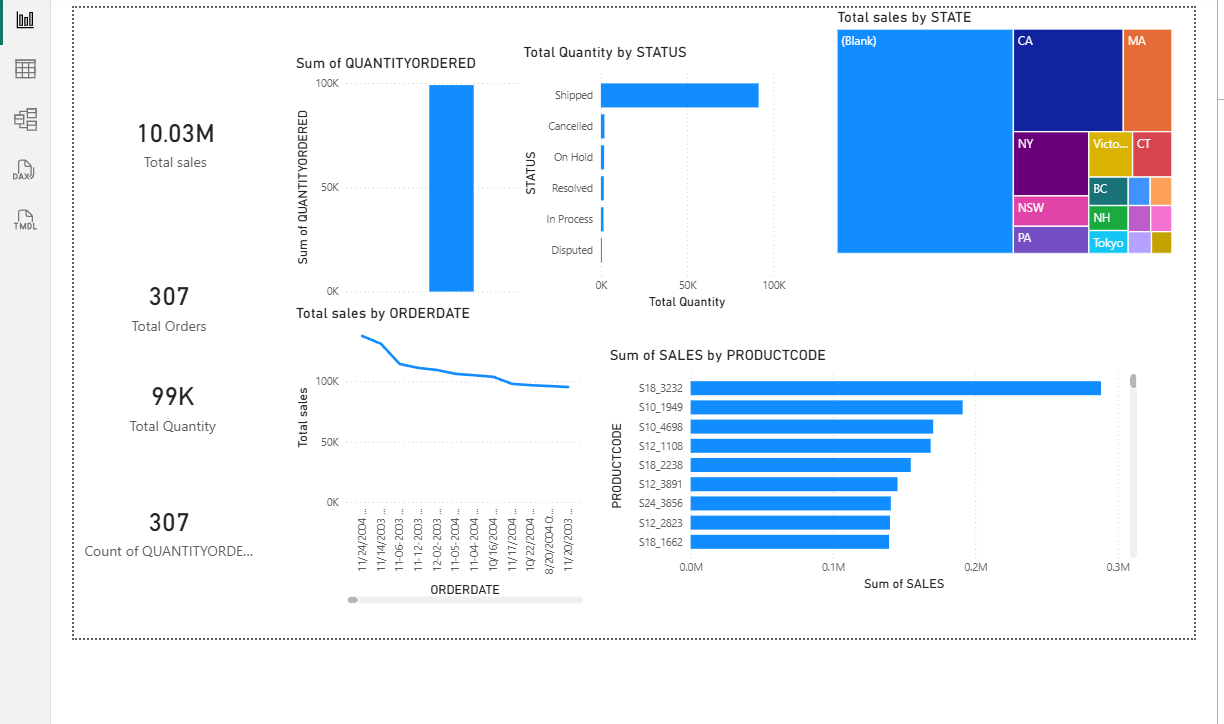

What the dashboard file says about the page in this screenshot:
{"tool":"powerbi","page":{"name":"Page 1","canvas":[1280,720],"ordinal":0},"visuals":[{"type":"card","fields":{"Values":["sales_data_sample.Total sales"]},"box":[15.1,16.5,200.3,269],"z":0},{"type":"card","fields":{"Values":["sales_data_sample.Total Orders"]},"box":[0,219.6,197.6,216.8],"z":1000},{"type":"clusteredColumnChart","fields":{"Y":["Sum(sales_data_sample.QUANTITYORDERED)"]},"box":[248.4,52.1,310.1,285.4],"z":2000},{"type":"card","fields":{"Values":["sales_data_sample.Total Orders"]},"box":[10,229.6,197.6,216.8],"z":3000},{"type":"card","fields":{"Values":["sales_data_sample.Total Quantity"]},"box":[9.6,402.1,205.8,102.9],"z":4000},{"type":"card","fields":{"Values":["CountNonNull(sales_data_sample (2).QUANTITYORDERED)"]},"box":[5.5,521.4,205.8,149.6],"z":5000},{"type":"clusteredBarChart","fields":{"Category":["sales_data_sample (2).STATUS"],"Y":["sales_data_sample.Total Quantity"]},"box":[508.6,40,310,308.6],"z":6000},{"type":"lineChart","fields":{"Y":["sales_data_sample.Total sales"],"Category":["sales_data_sample.ORDERDATE"]},"box":[248.6,338.6,338.6,347.1],"z":7000},{"type":"clusteredBarChart","fields":{"Category":["sales_data_sample.PRODUCTCODE"],"Y":["Sum(sales_data_sample.SALES)"]},"box":[607.1,385.7,612.9,285.7],"z":8000},{"type":"treemap","fields":{"Values":["sales_data_sample.Total sales"],"Group":["sales_data_sample.STATE"]},"box":[867.1,0,392.9,285.7],"z":9000}]}

Visuals, with their boxes on the page's 1280x720 design canvas (x1, y1, x2, y2). These are canvas units, not pixel positions in the 1224x724 screenshot, which may show the page scaled, cropped or inside an application window:
card - sales_data_sample.Total sales: Rect(15, 16, 215, 286)
card - sales_data_sample.Total Orders: Rect(0, 220, 198, 436)
clusteredColumnChart - Sum(sales_data_sample.QUANTITYORDERED): Rect(248, 52, 558, 338)
card - sales_data_sample.Total Orders: Rect(10, 230, 208, 446)
card - sales_data_sample.Total Quantity: Rect(10, 402, 215, 505)
card - CountNonNull(sales_data_sample (2).QUANTITYORDERED): Rect(6, 521, 211, 671)
clusteredBarChart - sales_data_sample (2).STATUS x sales_data_sample.Total Quantity: Rect(509, 40, 819, 349)
lineChart - sales_data_sample.Total sales x sales_data_sample.ORDERDATE: Rect(249, 339, 587, 686)
clusteredBarChart - sales_data_sample.PRODUCTCODE x Sum(sales_data_sample.SALES): Rect(607, 386, 1220, 671)
treemap - sales_data_sample.Total sales x sales_data_sample.STATE: Rect(867, 0, 1260, 286)
